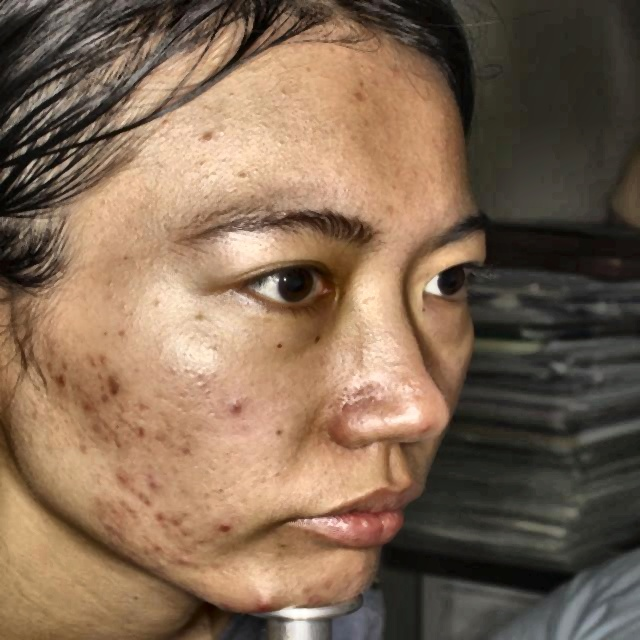pustule: (98, 370, 130, 411), (213, 391, 248, 420), (158, 515, 182, 550), (251, 586, 278, 616), (101, 459, 131, 484), (106, 495, 136, 519), (139, 470, 163, 500), (54, 358, 70, 400), (213, 516, 232, 546), (81, 386, 98, 418), (109, 429, 128, 455), (177, 554, 196, 578), (314, 572, 333, 596), (104, 520, 122, 544)
